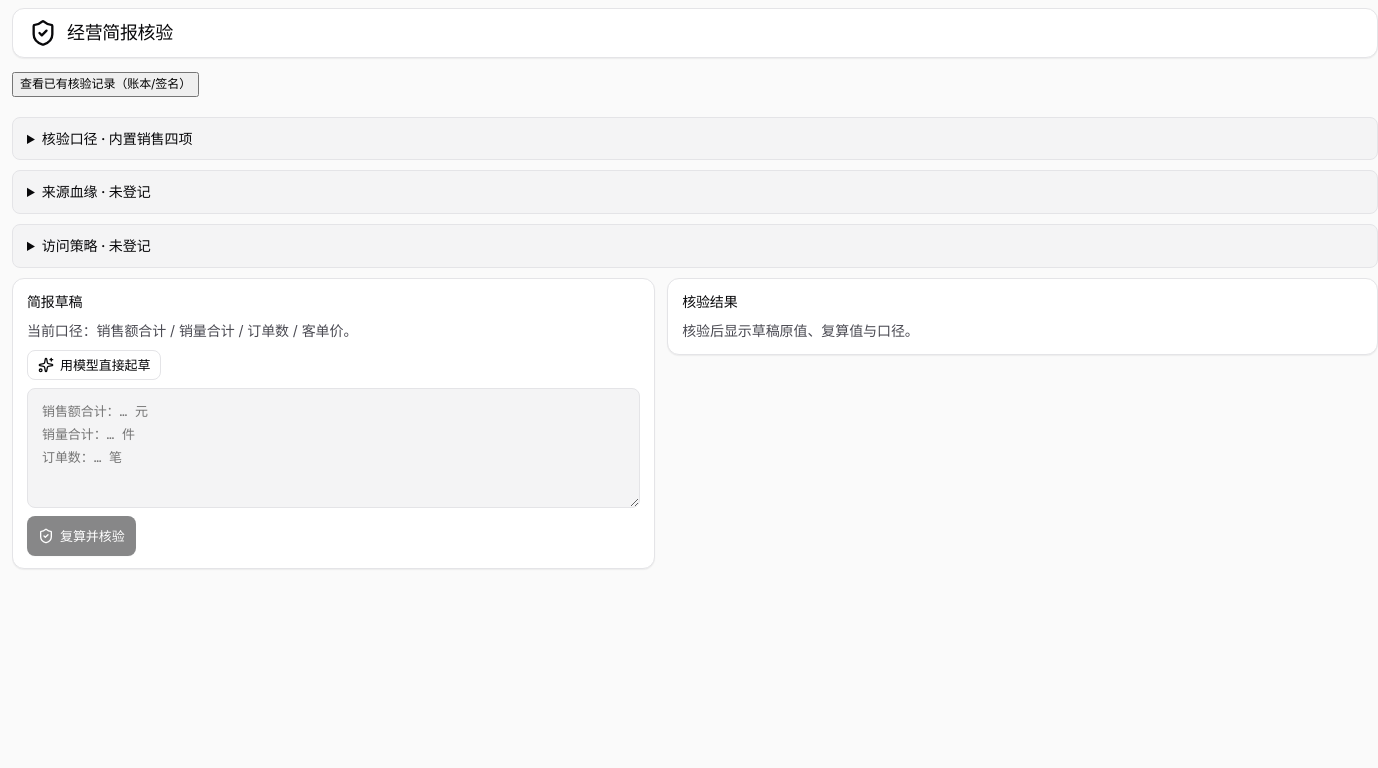
Test case: SalesAudit › 快速起草 429 时显示需要等待的秒数
The width and height of the screenshot is (1378, 768).
What coordinates should you click on to do the following:
click the button "用模型直接起草"
I would click on:
 (94, 365)
Its box is [27,350,162,380].
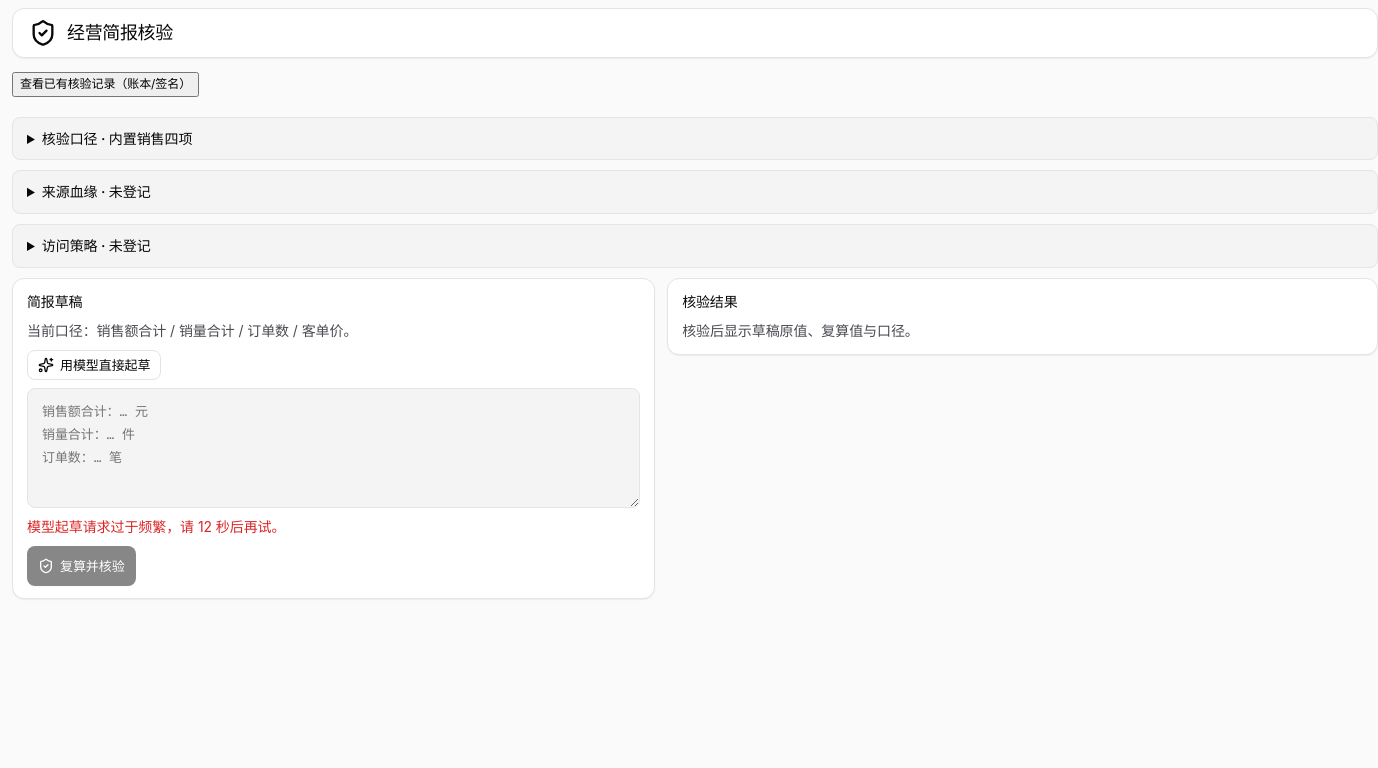
Expected: the message shows "12 秒", [27,518,285,535]
